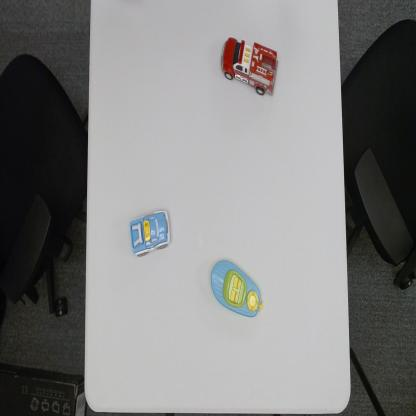Boat: (210, 257, 264, 321)
Car: (129, 208, 172, 259)
Firetruck: (220, 34, 279, 99)
